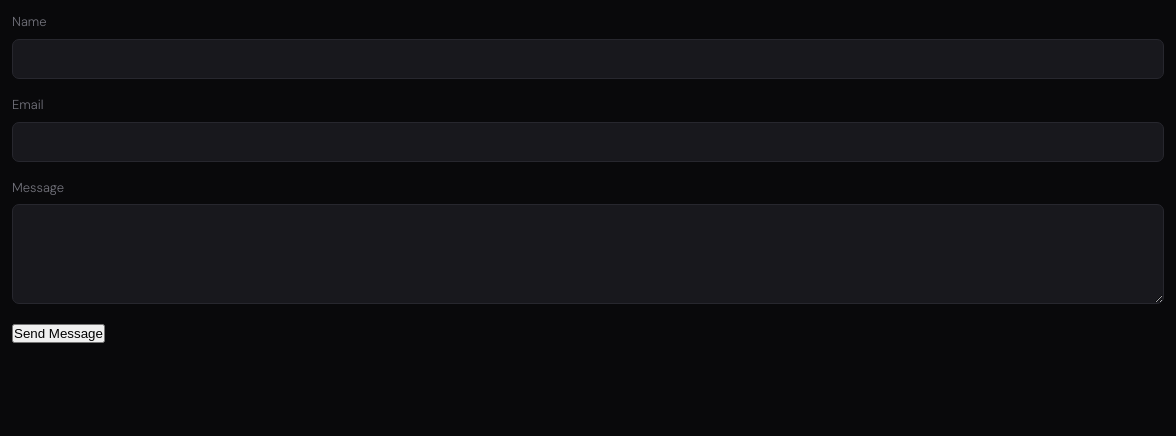
Test: ContactForm — Validation Errors › shows all required field errors on empty submit
Step 1. Click the button with test id "submit-btn" → (58, 334), box [12,324,105,343]
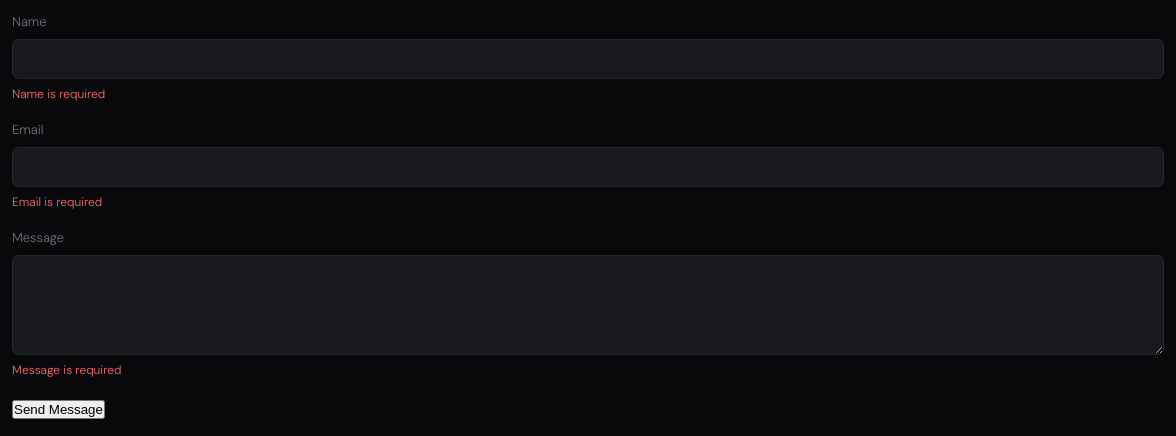
Expected: the message with test id "error-name" reads "Name is required", [12,86,105,102]
Expected: the message with test id "error-email" reads "Email is required", [12,194,102,210]
Expected: the message with test id "error-message" reads "Message is required", [12,362,121,378]
